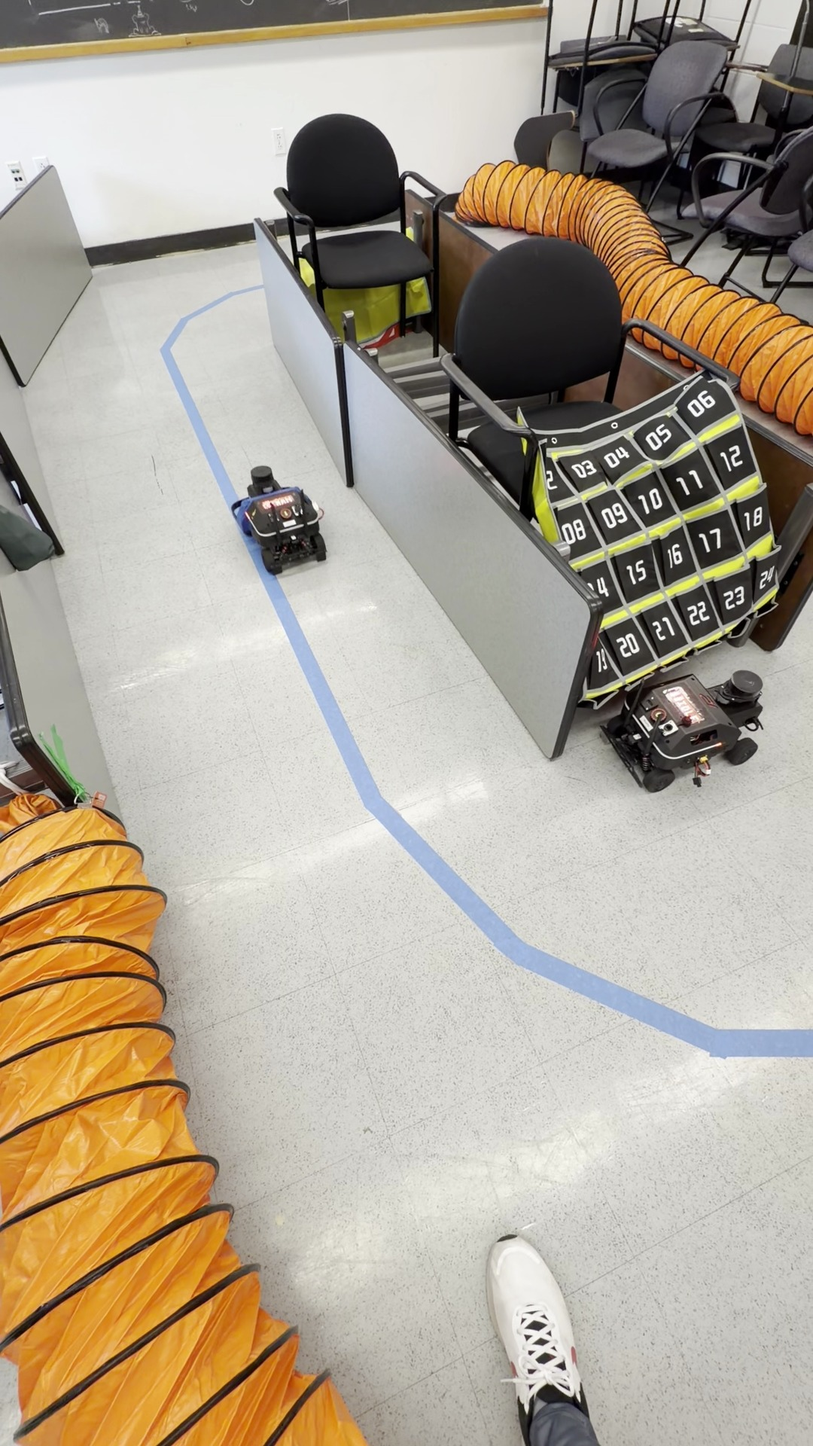racecar: (601, 667, 763, 791), (232, 466, 325, 572)
